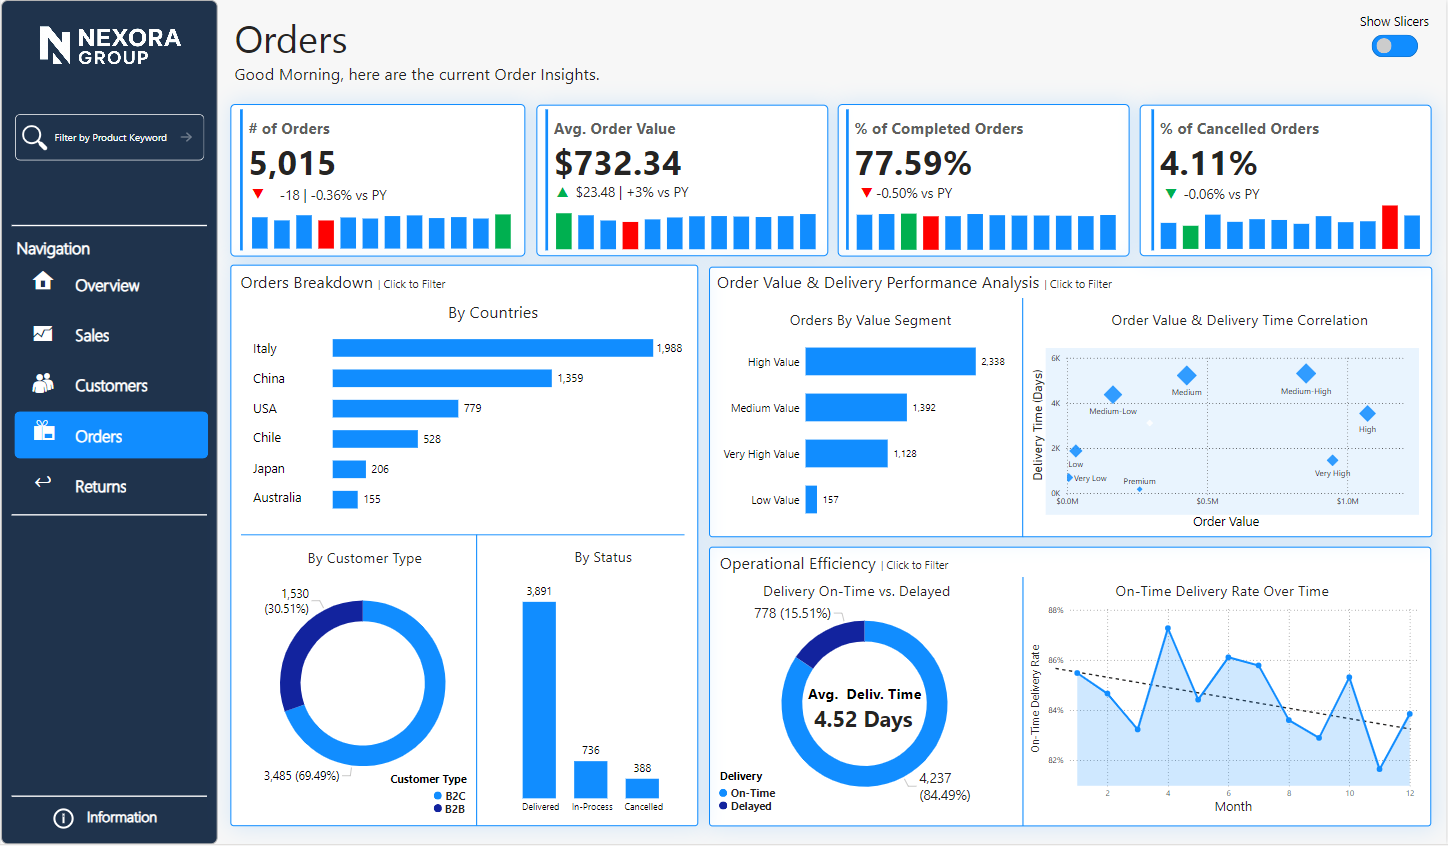

The dashboard page shown, as its layout file describes it:
{"tool":"powerbi","page":{"name":"Orders","canvas":[2240,1420],"ordinal":3},"visuals":[{"type":"group","id":"g1","title":"Group 10","box":[10,0,320,1403],"z":0,"group":"g17"},{"type":"shape","box":[10,0,320,1403],"z":0,"group":"g1"},{"type":"group","id":"g2","title":"Group 2","box":[2018.1,47.7,73.7,39.6],"z":0,"group":"g16"},{"type":"group","id":"g3","title":"Group 1","box":[2021.4,51,68.3,33.3],"z":0,"group":"g2"},{"type":"shape","box":[2021.4,51,68.3,33.3],"z":0,"group":"g3"},{"type":"shape","box":[20.6,168.5,279.3,68.5],"z":0,"group":"g15"},{"type":"card","fields":{"Values":["fact_orders.Avg_Order_Value_YoY_Diff"]},"box":[816.3,261.3,229.8,47.6],"z":0,"group":"g12"},{"type":"textbox","box":[46.7,363.2,51.3,88.2],"z":0,"group":"g5"},{"type":"pivotTable","fields":{"Rows":["dim_region.Country"],"Values":["Sum(fact_sales.NetSales)"]},"box":[361.5,439.7,447.8,327.2],"z":0,"group":"g6"},{"type":"textbox","box":[1135.9,451.8,291.7,46.7],"z":0,"group":"g9"},{"type":"donutChart","fields":{"Y":["fact_orders.number_of_orders"],"Category":["dim_channel.ChannelName (3)"]},"box":[335.2,797.5,394.6,582.9],"z":0,"group":"g7"},{"type":"shape","box":[1043.5,805.8,1185.5,597.7],"z":0},{"type":"textbox","box":[1560.5,852,599.3,45.9],"z":0,"group":"g11"},{"type":"clusteredColumnChart","fields":{"Category":["fact_orders.OrderStatus (2)"],"Y":["fact_orders.number_of_orders"]},"box":[734.8,863.6,275.6,516.7],"z":0,"group":"g8"},{"type":"lineChart","fields":{"Category":["dim_date.Month Number"],"Y":["fact_orders.On-Time Delivery Rate"]},"box":[1512.5,870.2,700.1,510.2],"z":0,"group":"g10"},{"type":"textbox","box":[1055.3,1127.3,125.6,32.2],"z":0,"group":"g14"},{"type":"textbox","box":[568.7,1132.7,125.5,31.8],"z":0,"group":"g13"},{"type":"textbox","box":[132.1,1331,162.8,50.2],"z":0,"group":"g4"},{"type":"textbox","box":[1998.6,13.7,113.3,37.8],"z":1000,"group":"g16"},{"type":"image","box":[28,27.7,282.3,95.2],"z":1000,"group":"g1"},{"type":"actionButton","box":[2018.1,47.7,75,40],"z":1000,"group":"g2"},{"type":"shape","box":[2028.6,56,22.8,22.8],"z":1000,"group":"g3"},{"type":"shape","box":[1233.4,153.6,431.2,224.4],"z":1000},{"type":"image","box":[22.8,176.8,54.3,53.9],"z":1000,"group":"g15"},{"type":"card","fields":{"Values":["fact_orders.AOV_YoY_Arrow"]},"box":[802.1,260.6,52.4,47.9],"z":1000,"group":"g12"},{"type":"textbox","box":[28,306,162,50],"z":1000,"group":"g17"},{"type":"textbox","box":[1597.6,451.8,456.7,46.7],"z":1000,"group":"g9"},{"type":"textbox","box":[46.7,461,51.3,71.1],"z":1000,"group":"g5"},{"type":"clusteredBarChart","fields":{"Y":["fact_orders.number_of_orders"],"Category":["dim_region.Country"]},"box":[484.8,488,525,269.4],"z":1000,"group":"g6"},{"type":"textbox","box":[759.2,800.8,257.9,75.2],"z":1000,"group":"g8"},{"type":"textbox","box":[365.3,805.4,339.8,73.5],"z":1000,"group":"g7"},{"type":"textbox","box":[1035.3,852,488.4,51.2],"z":1000,"group":"g11"},{"type":"lineChart","fields":{"Category":["dim_date.Month Number"],"Y":["fact_orders.On-Time Delivery Rate"]},"box":[1544.4,893,665.8,462.2],"z":1000,"group":"g10"},{"type":"shape","box":[1059.4,1162.9,12.2,12.6],"z":1000,"group":"g14"},{"type":"shape","box":[637.2,1167.2,12.2,12.6],"z":1000,"group":"g13"},{"type":"actionButton","box":[82,1332.7,39.8,39.8],"z":1000,"group":"g4"},{"type":"actionButton","box":[2013.1,45.4,79.1,41.4],"z":2000,"group":"g16"},{"type":"textSlicer","fields":{"Values":["dim_product.Product.Category"]},"box":[66.3,182.2,232.1,37.9],"z":2000,"group":"g15"},{"type":"pageNavigator","box":[31,357.9,286.3,525.5],"z":2000,"group":"g1"},{"type":"textbox","box":[46.7,544.1,51.3,88.2],"z":2000,"group":"g5"},{"type":"card","fields":{"Values":["fact_orders.Avg. Delivery Time (Days)"]},"box":[1191.1,1026.8,160.9,65.4],"z":2000},{"type":"textbox","box":[1067.5,1152.9,83.3,54.4],"z":2000,"group":"g14"},{"type":"textbox","box":[644.9,1156.8,46,54.8],"z":2000,"group":"g13"},{"type":"group","id":"g4","title":"Group 11","box":[82,1331,212.9,50.2],"z":2000,"group":"g17"},{"type":"shape","box":[789.5,154.5,430,223.3],"z":3000},{"type":"group","id":"g5","title":"Group 9","box":[46.7,363.2,54.1,454],"z":3000,"group":"g1"},{"type":"textbox","box":[48.1,627.7,52.7,97.8],"z":3000,"group":"g5"},{"type":"textbox","box":[1067.4,1171.3,84.3,35.7],"z":3000,"group":"g14"},{"type":"textbox","box":[644.7,1176.8,46,36],"z":3000,"group":"g13"},{"type":"textbox","box":[48.1,723.9,49.9,93.3],"z":4000,"group":"g5"},{"type":"textbox","box":[1146.9,1003.8,235.2,49.5],"z":4000},{"type":"shape","box":[1059.2,1181.7,12.5,12.5],"z":4000,"group":"g14"},{"type":"shape","box":[637,1186,12.5,12.5],"z":4000,"group":"g13"},{"type":"shape","box":[337.8,153.4,435.1,224.4],"z":5000},{"type":"textbox","box":[798.5,758.8,190.2,46],"z":6000},{"type":"cardVisual","fields":{"Data":["fact_orders.number_of_orders"]},"box":[347.6,160.9,340,213.3],"z":7000},{"type":"shape","box":[1043.5,393,1185.5,399.6],"z":8000},{"type":"shape","box":[338.5,391.3,690.2,1012.2],"z":9000},{"type":"shape","box":[1679.3,154.5,430,223.3],"z":10000},{"type":"card","fields":{"Values":["fact_orders.Number_of_Orders_YoY_Diff"]},"box":[368.9,265.7,242.9,47.1],"z":12000},{"type":"clusteredBarChart","fields":{"Y":["fact_orders.number_of_orders"],"Category":["fact_orders.Order_Value_Category_Col_2"]},"box":[1050.9,472.3,438.3,320],"z":13000},{"type":"scatterChart","fields":{"Y":["Sum(fact_orders.DeliveryDays)"],"X":["Sum(fact_orders.OrderAmount)"],"Category":["fact_orders.Order_Value_Category_Col"],"Size":["fact_orders.number_of_orders"]},"box":[1540.5,513.5,672,246],"z":14000},{"type":"group","id":"g6","title":"Group 4","box":[361.5,439.7,648.3,327.2],"z":15000},{"type":"card","fields":{"Values":["fact_orders.Number_of_Orders_YoY_Arrow"]},"box":[358.7,268.3,41.1,38.9],"z":16000},{"type":"textbox","box":[347.6,390.8,392.7,54],"z":17000},{"type":"group","id":"g7","title":"Group 5","box":[335.2,797.5,394.6,582.9],"z":18000},{"type":"cardVisual","fields":{"Data":["fact_sales.avg_order_value"]},"box":[798.3,160.9,335.6,213],"z":19000},{"type":"textbox","box":[603,438.8,246,44.7],"z":20000},{"type":"group","id":"g8","title":"Group 6","box":[734.8,800.8,282.3,579.6],"z":21000},{"type":"cardVisual","fields":{"Data":["fact_orders.%_of_cancelled_orders"]},"box":[1691.9,160.9,335.6,213],"z":22000},{"type":"shape","box":[354,771.8,654.6,33.8],"z":23000},{"type":"shape","box":[684.8,788.7,32.3,429.2],"z":24000},{"type":"cardVisual","fields":{"Data":["fact_orders.%_of_completed_orders"]},"box":[1241.2,160.9,335.6,212.7],"z":25000},{"type":"textbox","box":[1050.4,392.3,745.1,53.9],"z":26000},{"type":"shape","box":[1489.3,439.5,34.4,352.8],"z":27000},{"type":"textbox","box":[1655.9,750.7,300,35],"z":28000},{"type":"scatterChart","fields":{"Y":["Sum(fact_orders.DeliveryDays)"]},"box":[1512.6,444.3,338.3,358.3],"z":29000},{"type":"group","id":"g9","title":"Group 7","box":[1135.9,451.8,918.3,46.7],"z":30000},{"type":"group","id":"g10","title":"Group 10","box":[1512.5,870.2,700.1,510.2],"z":31000},{"type":"card","fields":{"Values":["fact_orders.Completed_Orders_YoY_Diff"]},"box":[1217.4,262.4,259.3,49.3],"z":32000},{"type":"textbox","box":[1055.2,806,745.1,53.9],"z":33000},{"type":"shape","box":[1489.9,851.7,33.3,366.7],"z":34000},{"type":"card","fields":{"Values":["fact_orders.Cancelled_Orders_YoY_Diff"]},"box":[1691.8,263.4,216,48],"z":35000},{"type":"group","id":"g11","title":"Group 11","box":[1035.3,852,1124.4,51.2],"z":36000},{"type":"group","id":"g12","title":"Group 3","box":[802.1,260.6,243.9,48.8],"z":37000},{"type":"card","fields":{"Values":["fact_orders.Completed_Orders_YoY_Arrow"]},"box":[1248.8,261.7,57.1,49.3],"z":38000},{"type":"card","fields":{"Values":["fact_orders.Cancelled_Orders_YoY_Arrow_Color"]},"box":[1699.8,263.4,52,49],"z":39000},{"type":"donutChart","fields":{"Y":["fact_orders.number_of_orders"],"Category":["fact_orders.Delivery On Time vs Delayed"]},"box":[1053.4,860.3,440.9,520.1],"z":40000},{"type":"textbox","box":[339,13.5,744,126],"z":41000},{"type":"group","id":"g13","title":"Group 8","box":[568.7,1132.7,125.5,80.1],"z":42000},{"type":"group","id":"g14","title":"Group 2","box":[1055.3,1127.3,125.7,80],"z":43000},{"type":"shape","box":[16,318,288,30],"z":44000},{"type":"shape","box":[16,744,288,30],"z":45000},{"type":"group","id":"g15","title":"Group 14","box":[20.6,168.5,279.3,68.5],"z":46000},{"type":"clusteredColumnChart","fields":{"Category":["dim_date.Month Name"],"Y":["fact_orders.number_of_orders"]},"box":[365.8,287.4,392,86],"z":47000},{"type":"clusteredColumnChart","fields":{"Category":["dim_date.Month Name"],"Y":["fact_sales.avg_order_value"]},"box":[814.3,289.5,393.3,85],"z":48000},{"type":"clusteredColumnChart","fields":{"Category":["dim_date.Month Name"],"Y":["fact_orders.%_of_completed_orders"]},"box":[1257.6,288.6,392.5,85.8],"z":49000},{"type":"clusteredColumnChart","fields":{"Category":["dim_date.Month Name"],"Y":["fact_orders.%_of_cancelled_orders"]},"box":[1706,288.9,392.7,84.5],"z":50000},{"type":"group","id":"g16","title":"Group 13","box":[1998.6,13.7,113.3,73.6],"z":51000},{"type":"group","id":"g17","title":"Group 12","box":[10,0,320,1403],"z":57000}]}

Visuals, with their boxes on the page's 2240x1420 design canvas (x1, y1, x2, y2). These are canvas units, not pixel positions in the 1448x846 screenshot, which may show the page scaled, cropped or inside an application window:
"Group 10" group: 10/0/330/1403
shape: 10/0/330/1403
"Group 2" group: 2018/48/2092/87
"Group 1" group: 2021/51/2090/84
shape: 2021/51/2090/84
shape: 21/168/300/237
card - fact_orders.Avg_Order_Value_YoY_Diff: 816/261/1046/309
textbox: 47/363/98/451
pivotTable - dim_region.Country x Sum(fact_sales.NetSales): 362/440/809/767
textbox: 1136/452/1428/498
donutChart - fact_orders.number_of_orders x dim_channel.ChannelName (3): 335/798/730/1380
shape: 1044/806/2229/1404
textbox: 1560/852/2160/898
clusteredColumnChart - fact_orders.OrderStatus (2) x fact_orders.number_of_orders: 735/864/1010/1380
lineChart - dim_date.Month Number x fact_orders.On-Time Delivery Rate: 1512/870/2213/1380
textbox: 1055/1127/1181/1160
textbox: 569/1133/694/1164
textbox: 132/1331/295/1381
textbox: 1999/14/2112/52
image: 28/28/310/123
actionButton: 2018/48/2093/88
shape: 2029/56/2051/79
shape: 1233/154/1665/378
image: 23/177/77/231
card - fact_orders.AOV_YoY_Arrow: 802/261/854/308
textbox: 28/306/190/356
textbox: 1598/452/2054/498
textbox: 47/461/98/532
clusteredBarChart - fact_orders.number_of_orders x dim_region.Country: 485/488/1010/757
textbox: 759/801/1017/876
textbox: 365/805/705/879
textbox: 1035/852/1524/903
lineChart - dim_date.Month Number x fact_orders.On-Time Delivery Rate: 1544/893/2210/1355
shape: 1059/1163/1072/1176
shape: 637/1167/649/1180
actionButton: 82/1333/122/1372
actionButton: 2013/45/2092/87
textSlicer - dim_product.Product.Category: 66/182/298/220
pageNavigator: 31/358/317/883
textbox: 47/544/98/632
card - fact_orders.Avg. Delivery Time (Days): 1191/1027/1352/1092
textbox: 1068/1153/1151/1207
textbox: 645/1157/691/1212
"Group 11" group: 82/1331/295/1381
shape: 790/154/1220/378
"Group 9" group: 47/363/101/817
textbox: 48/628/101/726
textbox: 1067/1171/1152/1207
textbox: 645/1177/691/1213
textbox: 48/724/98/817
textbox: 1147/1004/1382/1053
shape: 1059/1182/1072/1194
shape: 637/1186/650/1198
shape: 338/153/773/378
textbox: 798/759/989/805
cardVisual - fact_orders.number_of_orders: 348/161/688/374
shape: 1044/393/2229/793
shape: 338/391/1029/1404
shape: 1679/154/2109/378
card - fact_orders.Number_of_Orders_YoY_Diff: 369/266/612/313
clusteredBarChart - fact_orders.number_of_orders x fact_orders.Order_Value_Category_Col_2: 1051/472/1489/792
scatterChart - Sum(fact_orders.DeliveryDays) x Sum(fact_orders.OrderAmount): 1540/514/2212/760
"Group 4" group: 362/440/1010/767
card - fact_orders.Number_of_Orders_YoY_Arrow: 359/268/400/307
textbox: 348/391/740/445
"Group 5" group: 335/798/730/1380
cardVisual - fact_sales.avg_order_value: 798/161/1134/374
textbox: 603/439/849/484
"Group 6" group: 735/801/1017/1380
cardVisual - fact_orders.%_of_cancelled_orders: 1692/161/2028/374
shape: 354/772/1009/806
shape: 685/789/717/1218
cardVisual - fact_orders.%_of_completed_orders: 1241/161/1577/374
textbox: 1050/392/1796/446
shape: 1489/440/1524/792
textbox: 1656/751/1956/786
scatterChart - Sum(fact_orders.DeliveryDays): 1513/444/1851/803
"Group 7" group: 1136/452/2054/498
"Group 10" group: 1512/870/2213/1380
card - fact_orders.Completed_Orders_YoY_Diff: 1217/262/1477/312
textbox: 1055/806/1800/860
shape: 1490/852/1523/1218
card - fact_orders.Cancelled_Orders_YoY_Diff: 1692/263/1908/311
"Group 11" group: 1035/852/2160/903
"Group 3" group: 802/261/1046/309
card - fact_orders.Completed_Orders_YoY_Arrow: 1249/262/1306/311
card - fact_orders.Cancelled_Orders_YoY_Arrow_Color: 1700/263/1752/312
donutChart - fact_orders.number_of_orders x fact_orders.Delivery On Time vs Delayed: 1053/860/1494/1380
textbox: 339/14/1083/140
"Group 8" group: 569/1133/694/1213
"Group 2" group: 1055/1127/1181/1207
shape: 16/318/304/348
shape: 16/744/304/774
"Group 14" group: 21/168/300/237
clusteredColumnChart - dim_date.Month Name x fact_orders.number_of_orders: 366/287/758/373
clusteredColumnChart - dim_date.Month Name x fact_sales.avg_order_value: 814/290/1208/374
clusteredColumnChart - dim_date.Month Name x fact_orders.%_of_completed_orders: 1258/289/1650/374
clusteredColumnChart - dim_date.Month Name x fact_orders.%_of_cancelled_orders: 1706/289/2099/373
"Group 13" group: 1999/14/2112/87
"Group 12" group: 10/0/330/1403
